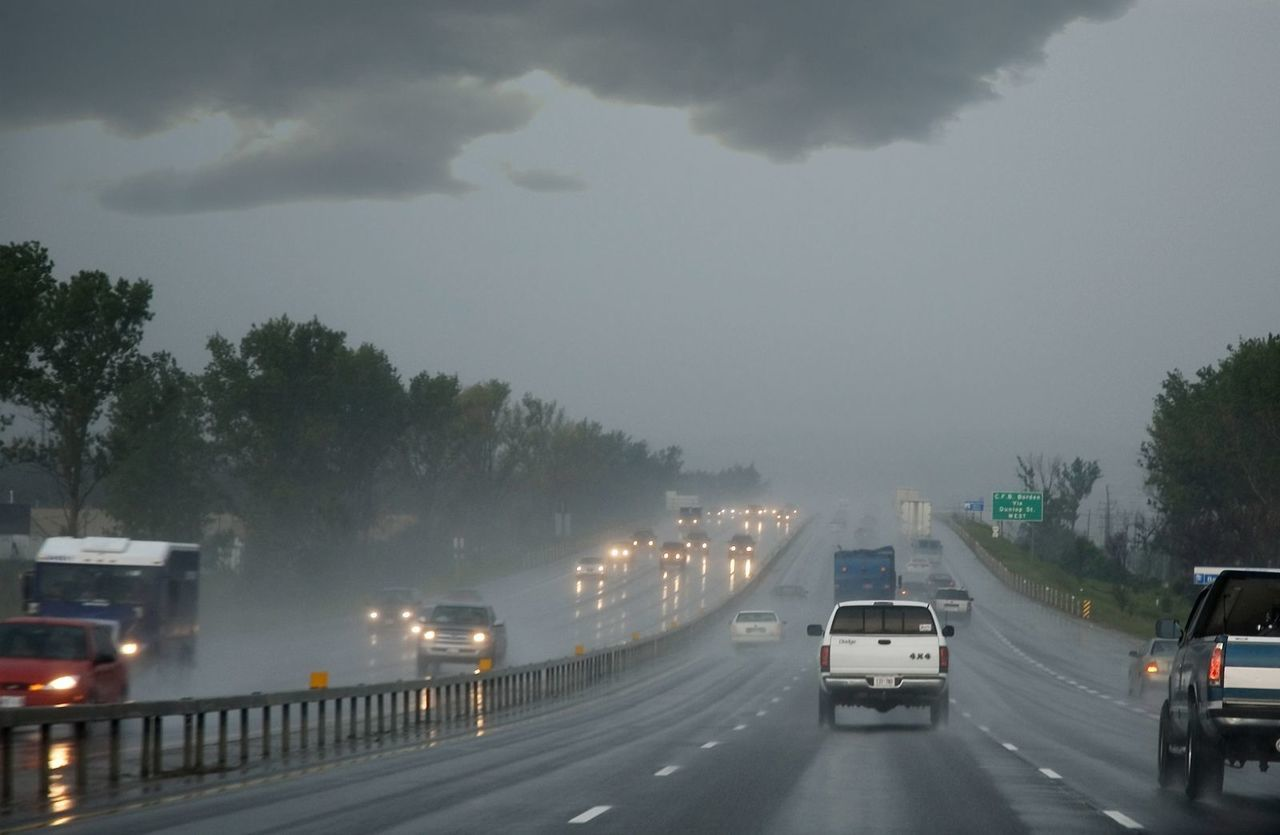car: (1158, 576, 1276, 805), (809, 601, 951, 728), (0, 614, 136, 710), (411, 597, 505, 678), (1127, 633, 1183, 700), (360, 586, 418, 631), (725, 610, 788, 645), (931, 588, 974, 624), (898, 580, 935, 608), (765, 582, 809, 605), (572, 554, 609, 577), (657, 541, 687, 569), (725, 535, 757, 559), (628, 530, 656, 551), (685, 532, 710, 555), (676, 507, 702, 529), (902, 555, 931, 573), (605, 542, 633, 559)
truck: (20, 542, 207, 678), (832, 545, 897, 602), (898, 499, 934, 544)
